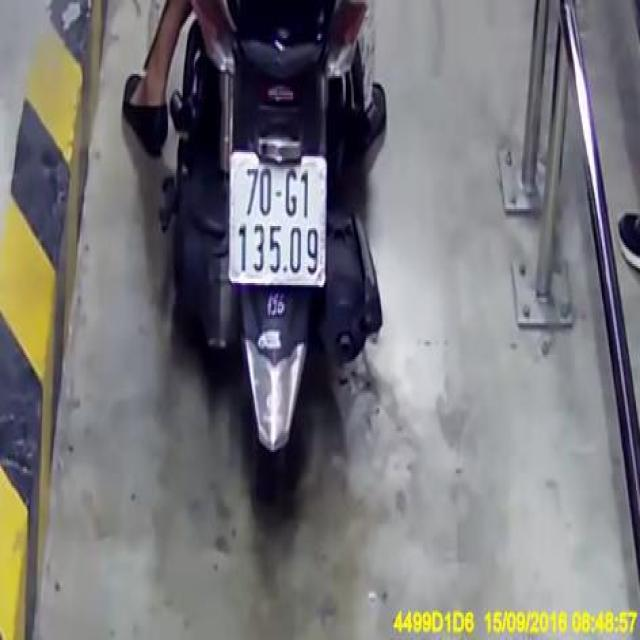licence: (228, 152, 329, 290)
